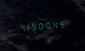five: (59, 18, 65, 29)
four: (17, 21, 23, 32), (52, 19, 58, 29)
nine: (31, 20, 37, 31)
one: (24, 21, 30, 31)
zero: (45, 19, 51, 30), (38, 20, 44, 30)
